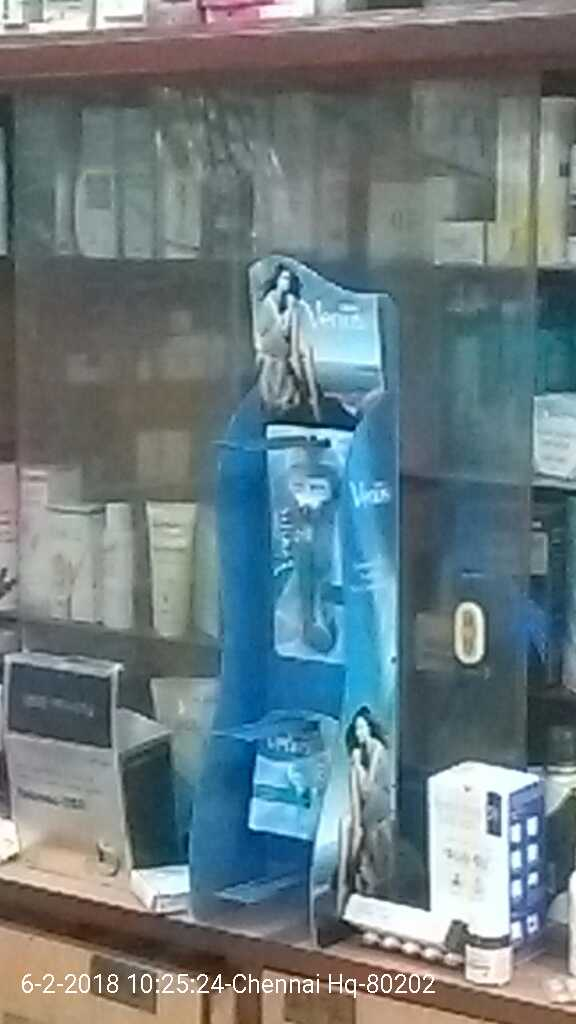venus: (259, 434, 344, 664), (244, 714, 334, 854)
